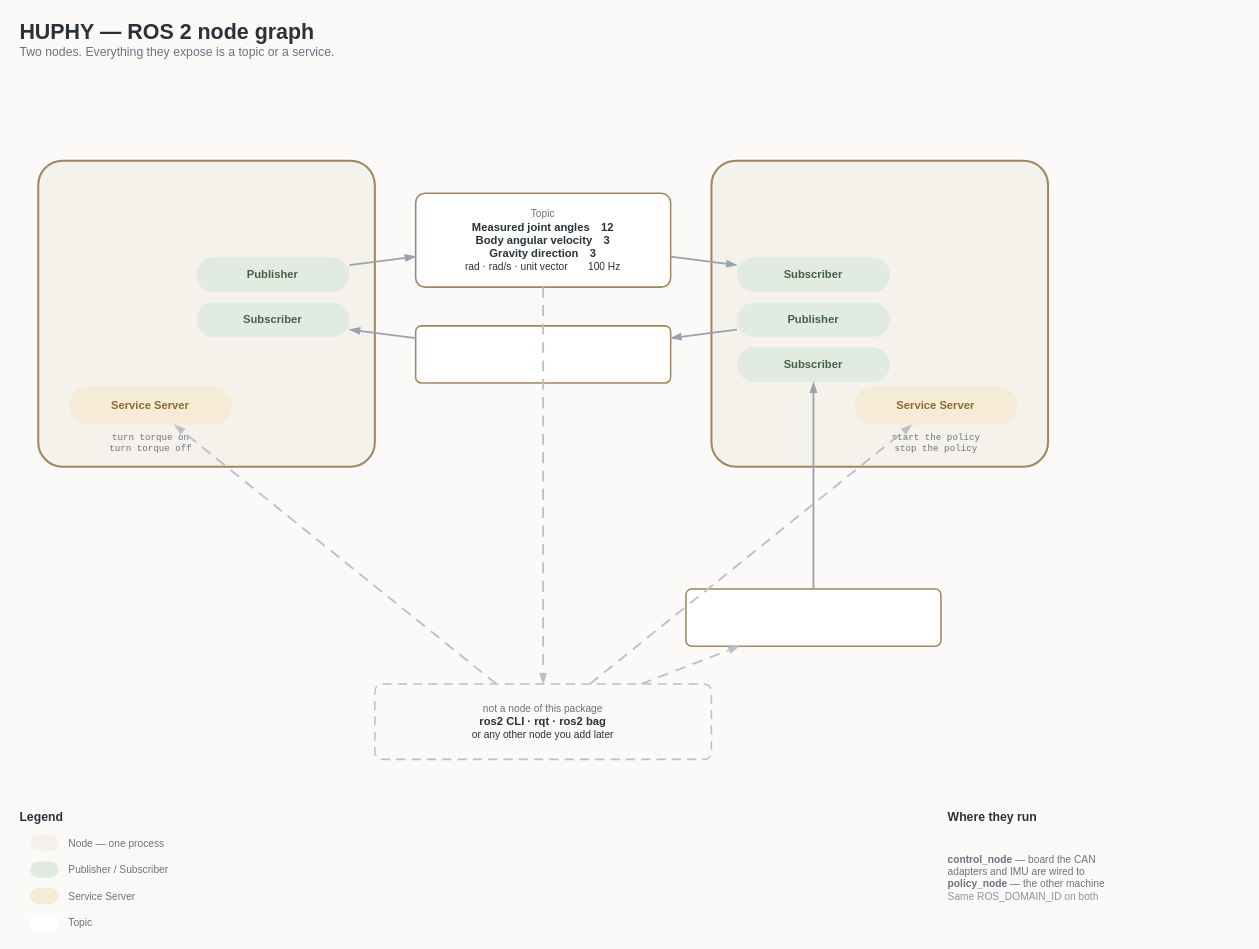
This 1259x949 diagram has some shape labels left out. Each missing label, with the box of its shape:
control_node Drives the motors 100 Hz loop · CAN · safety guards: (37, 159, 375, 467)
policy_node Decides the next pose 50 Hz inference · .pt: (710, 159, 1049, 467)
Topic Target joint angles 12 rad 50 Hz: (414, 325, 671, 383)
Topic Velocity command forward vx · turn wz 20 Hz: (685, 588, 941, 646)
